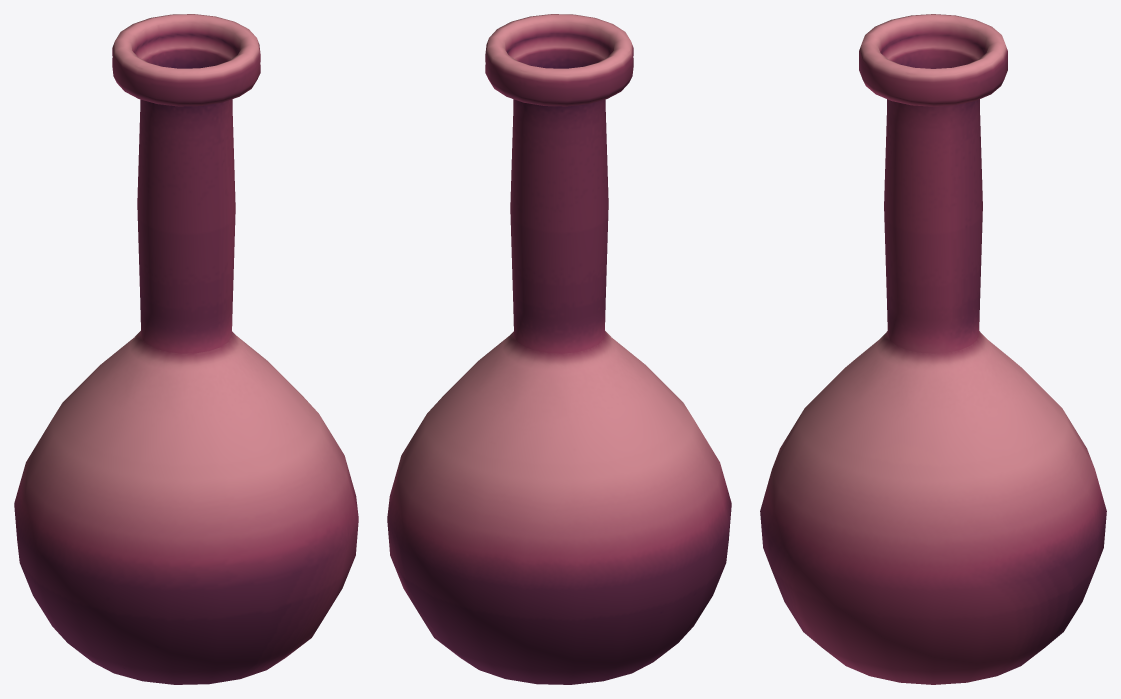
File: OBS_PotionSmall_01_Mesh.fbx
The picture shows the model from 3 angles, left to right: view 1: azimuth 30°, elevation 25°; view 2: azimuth 150°, elevation 25°; view 3: azimuth 270°, elevation 25°; orthographic projection.
Visible parts, largest first — view 1: potionSmall; view 2: potionSmall; view 3: potionSmall.
Part boxes in pixels (left/top/right/bottom): potionSmall: left=14, top=14, right=358, bottom=684; potionSmall: left=387, top=14, right=731, bottom=684; potionSmall: left=760, top=14, right=1106, bottom=684.
Bounding box in the file's own units: 0.2246 × 0.4315 × 0.2248.
